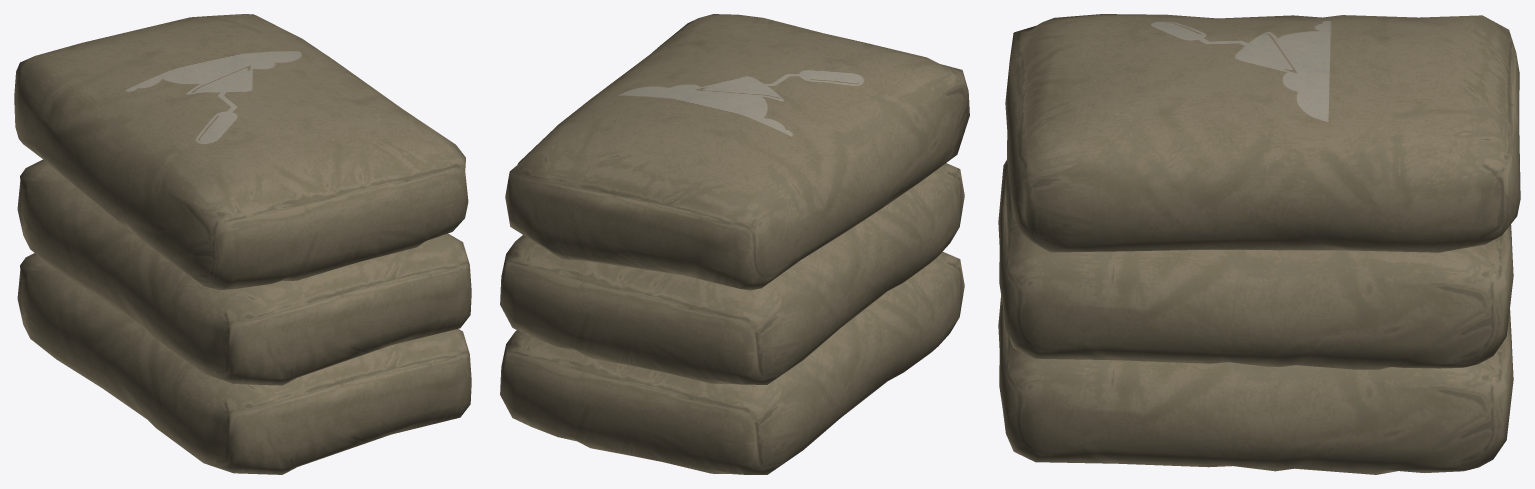
The model's file is Cement.dae.
3 views of the same model, side by side, from view 1: azimuth 30°, elevation 25°; view 2: azimuth 150°, elevation 25°; view 3: azimuth 270°, elevation 25° (orthographic). The views are drawn at different scales.
Visible parts, largest first — view 1: Cement.mo; view 2: Cement.mo; view 3: Cement.mo.
Part boxes in pixels (left/top/right/bottom): Cement.mo: left=14, top=14, right=471, bottom=474; Cement.mo: left=500, top=14, right=969, bottom=474; Cement.mo: left=998, top=14, right=1520, bottom=474.
Size of the model in its own units: 0.9702 by 1.33 by 0.9927.
Materials: 1 (1 with a texture image).
